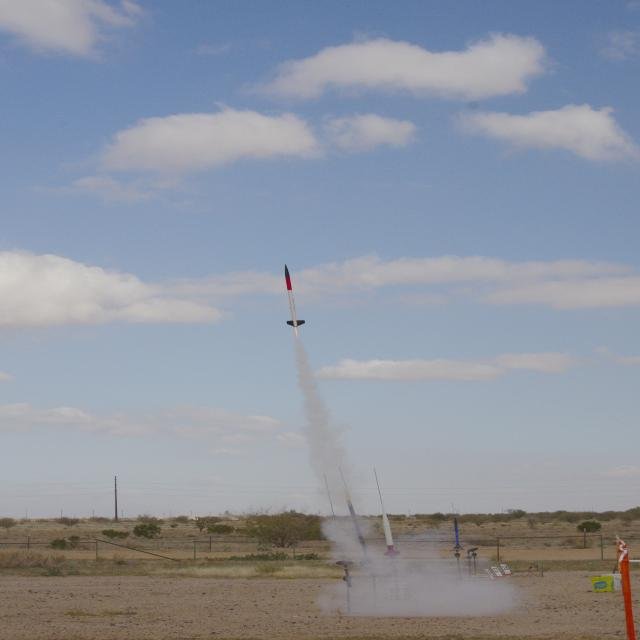Rocket: (284, 264, 306, 328)
